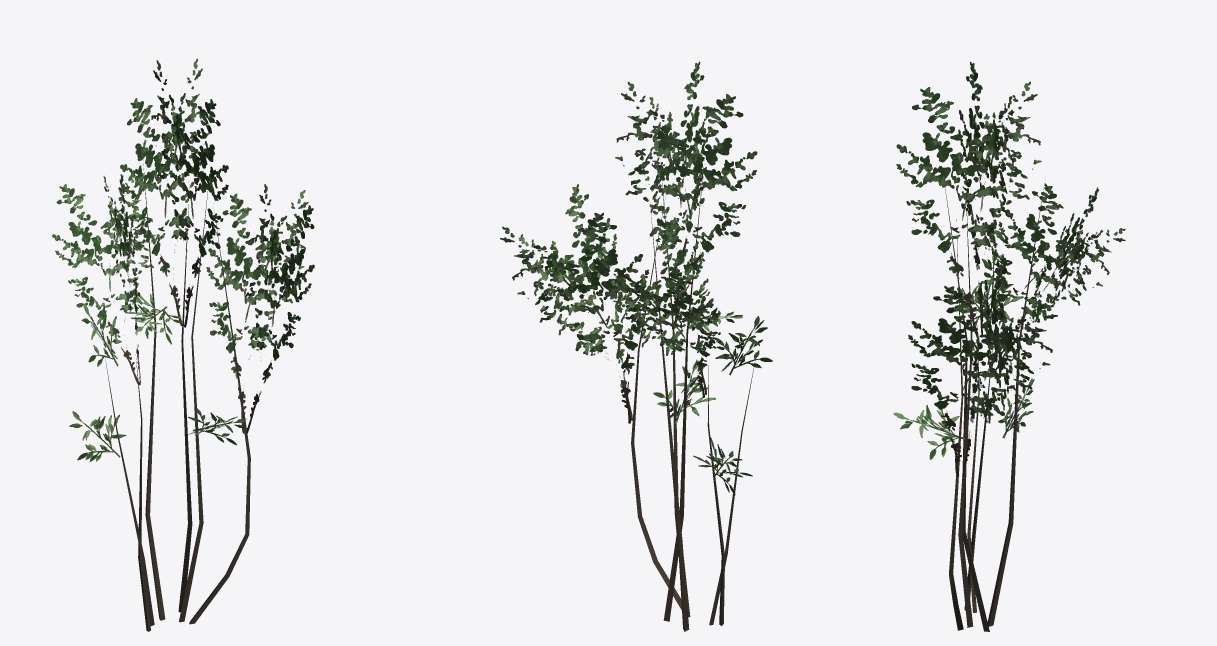
The model's file is BgMD_Aodamo_0101.fbx.
The picture shows the model from 3 angles, left to right: view 1: azimuth 30°, elevation 25°; view 2: azimuth 150°, elevation 25°; view 3: azimuth 270°, elevation 25°; orthographic projection.
Parts seen in each view (by area): view 1: pPlane30; view 2: pPlane30; view 3: pPlane30.
Boxes of the visible parts, x1=… form: pPlane30: x1=52, y1=58, x2=314, y2=631; pPlane30: x1=500, y1=61, x2=772, y2=631; pPlane30: x1=893, y1=61, x2=1125, y2=631.
Bounding box in the file's own units: 113 × 168 × 99.25.
